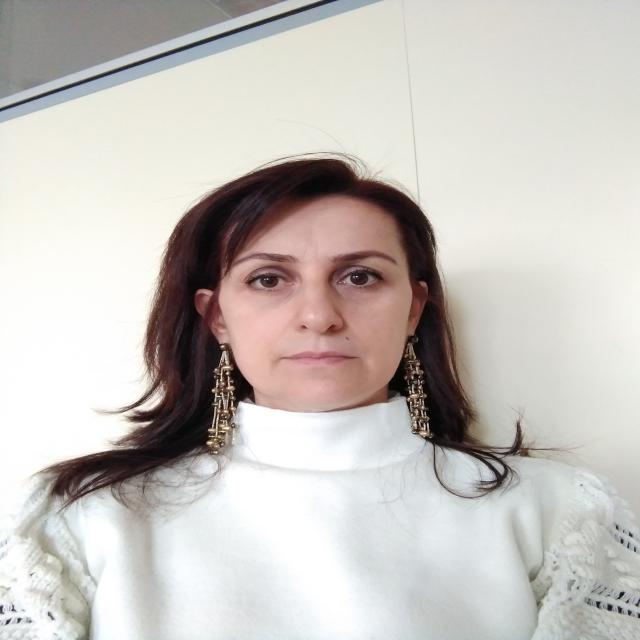eyebrow: (331, 250, 399, 266), (234, 253, 299, 265)
